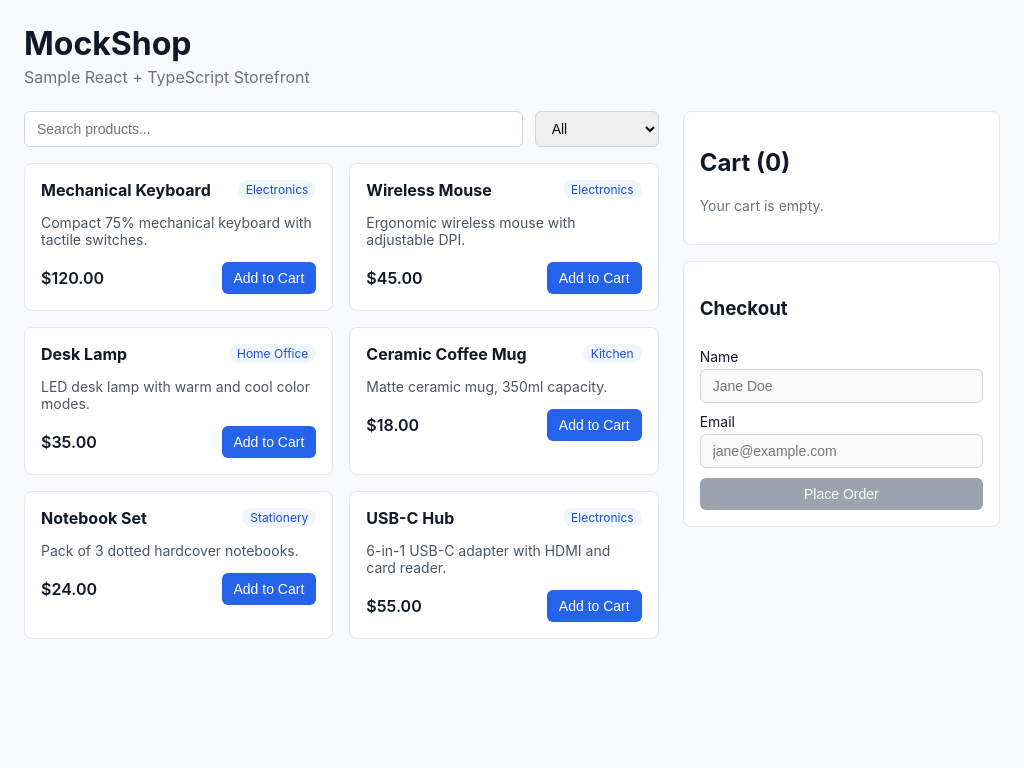
Test case: MockShop App › validates checkout and displays order confirmation
Step 1. Click the button "Add to Cart" next to "45.00" → (594, 278), box [547,262,642,294]
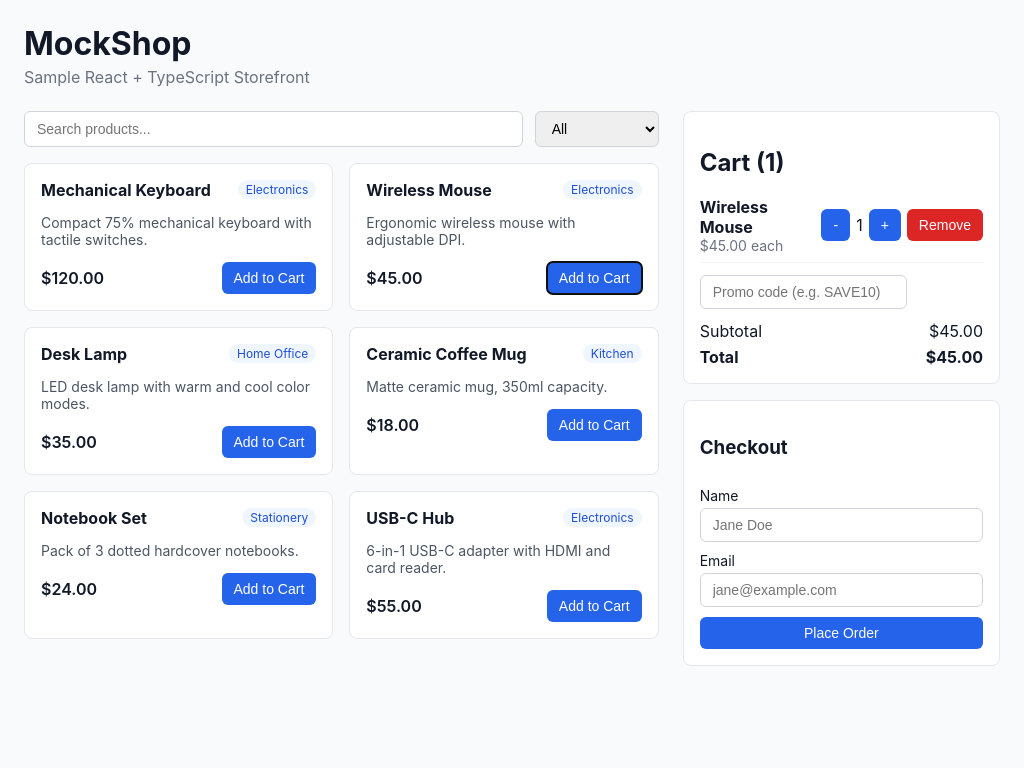
Step 2. Click the button "Place Order" → (841, 633), box [700,617,983,649]
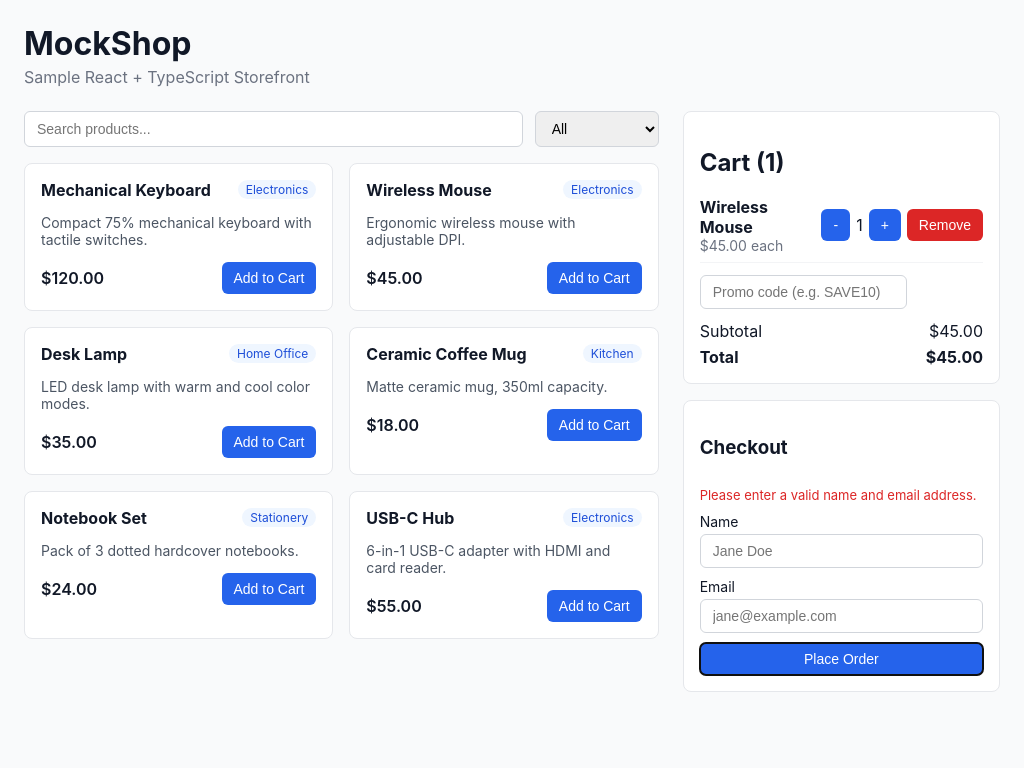
Check: the message reads "Please enter a valid name and email address.", box [700,487,977,503]
Step 3. Type "Alice Smith" into the field with placeholder "Jane Doe" → (841, 551), box [700,534,983,568]
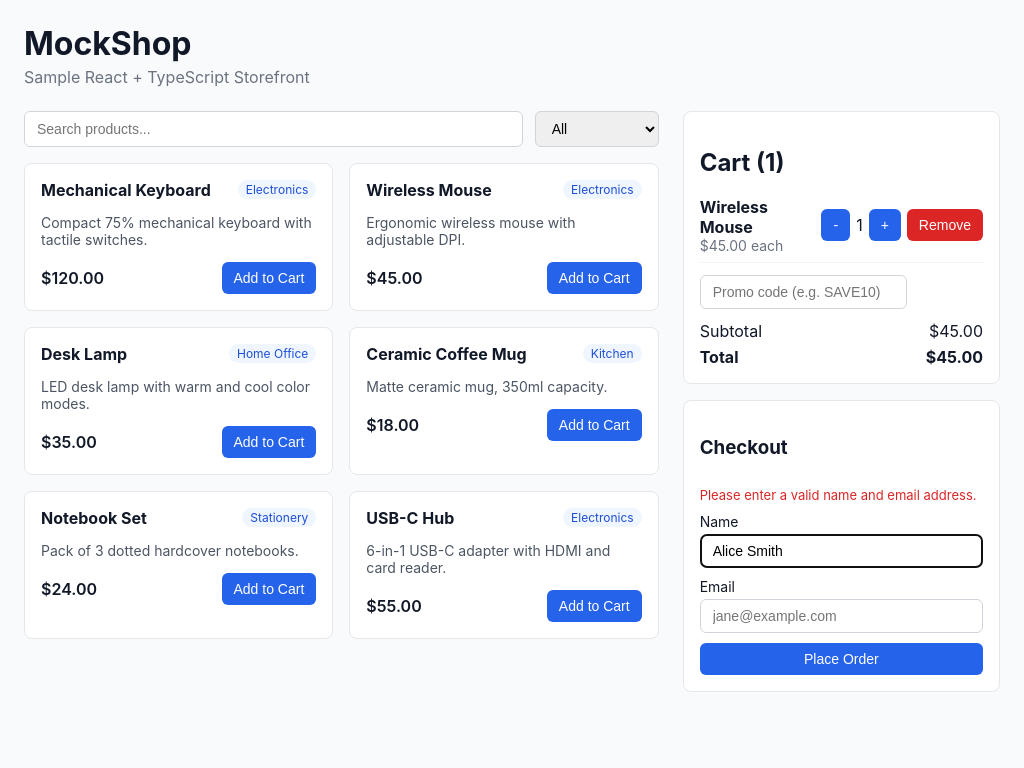
Step 4. Type "alice@example.com" into the field with placeholder "jane@example.com" → (841, 616), box [700,599,983,633]
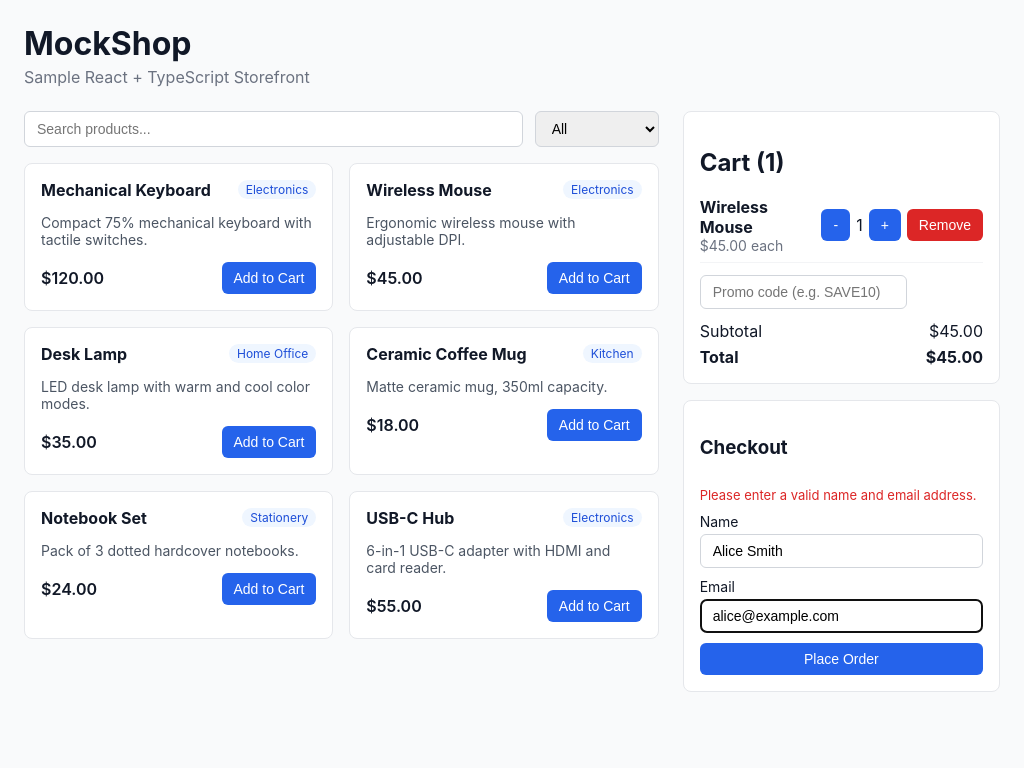
Step 5. Click the button "Place Order" → (841, 659), box [700,643,983,675]
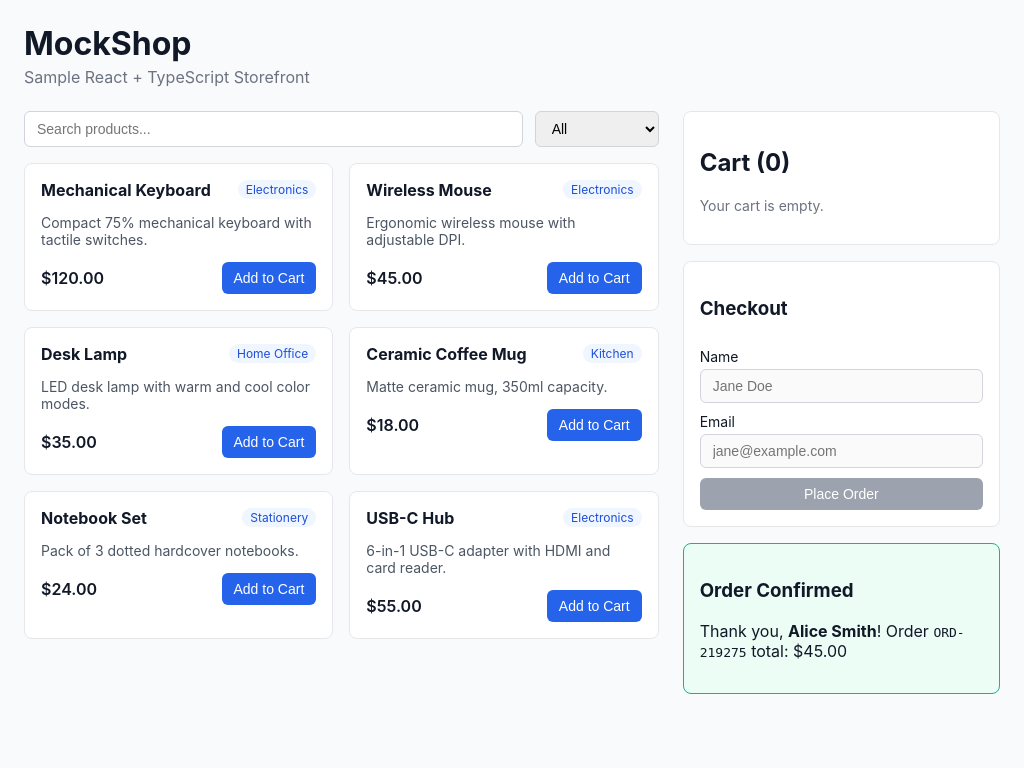
Check: the message shows "Order Confirmed", box [700,579,854,602]
Check: the message shows "Alice Smith", box [788,621,877,641]
Check: the text "Your cart is empty." is shown, box [700,197,824,214]
